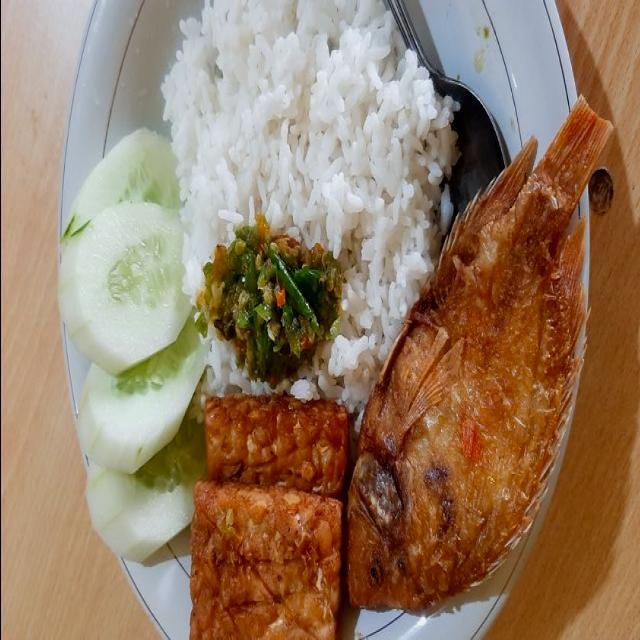ikan goreng: (343, 96, 613, 614)
nasi: (162, 0, 462, 415)
tempe goreng: (189, 397, 347, 640)
